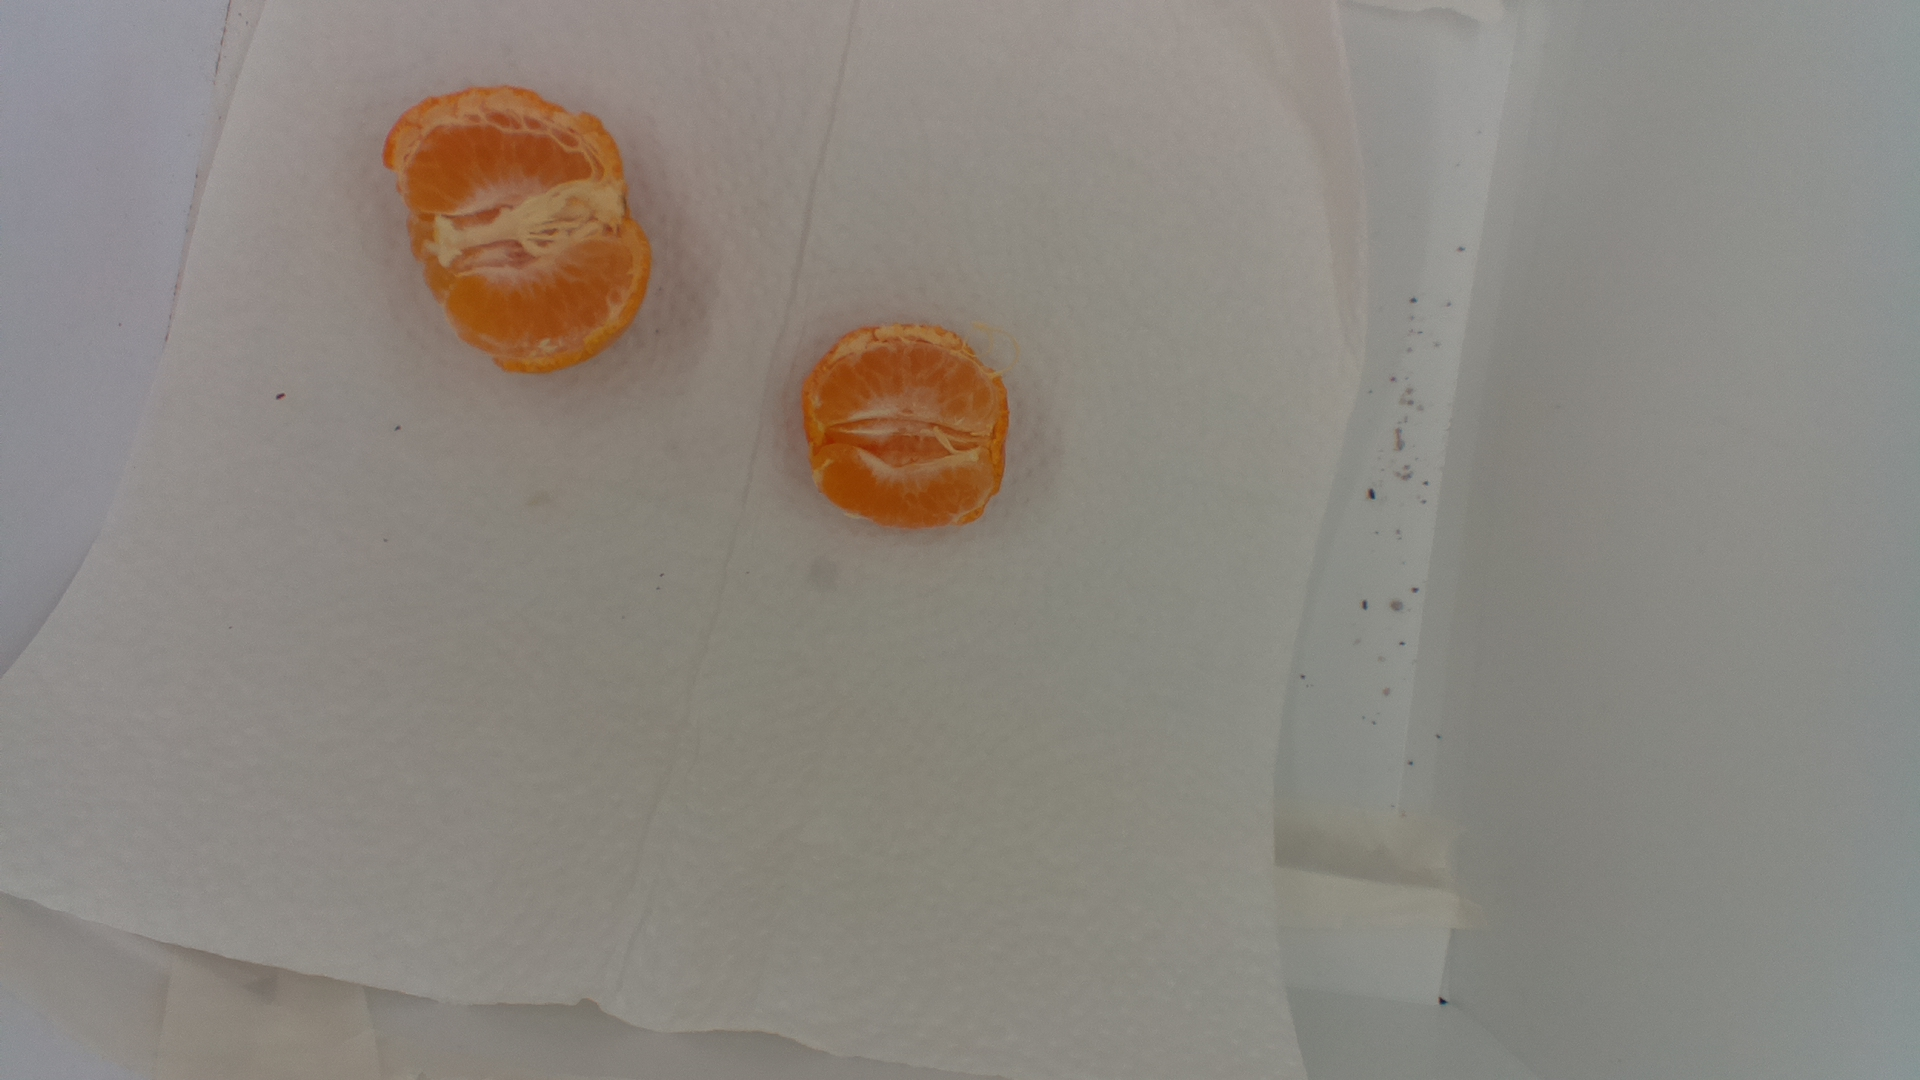fruit: (382, 83, 659, 382), (796, 323, 1019, 527)
